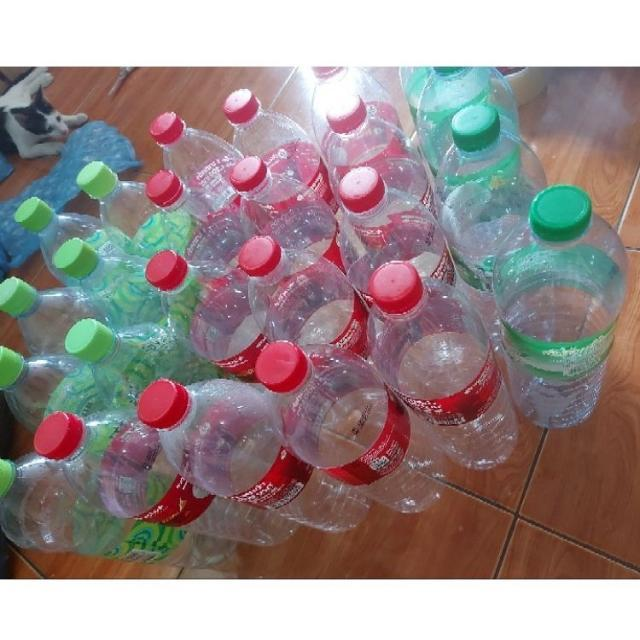PET Bottle: (110, 356, 352, 519), (357, 243, 527, 473), (479, 187, 618, 455), (242, 318, 431, 508), (439, 113, 567, 320), (21, 411, 216, 543), (0, 435, 162, 564), (120, 241, 289, 361), (184, 151, 344, 248), (412, 71, 550, 183), (332, 155, 445, 278), (235, 235, 359, 334), (221, 81, 332, 182), (0, 184, 124, 272), (141, 164, 262, 252), (34, 234, 162, 316), (144, 96, 256, 189), (52, 314, 185, 388), (320, 95, 412, 187), (56, 159, 170, 232), (0, 269, 102, 350), (0, 340, 80, 413)
